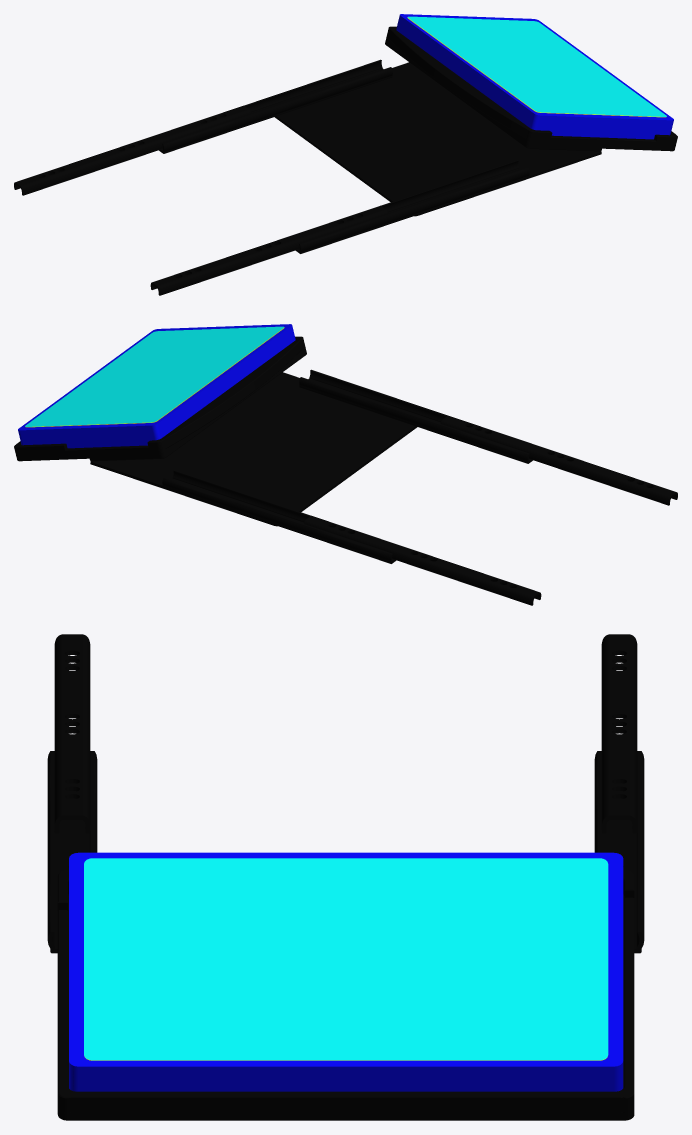
Rendered from touchscreenExtendedForWideDesktop.glb.
The picture shows the model from 3 angles, top to bottom: view 1: azimuth 30°, elevation 25°; view 2: azimuth 150°, elevation 25°; view 3: azimuth 270°, elevation 25°; orthographic projection. The views are drawn at different scales.
Size of the model in its own units: 16.28 by 2.54 by 8.07.
